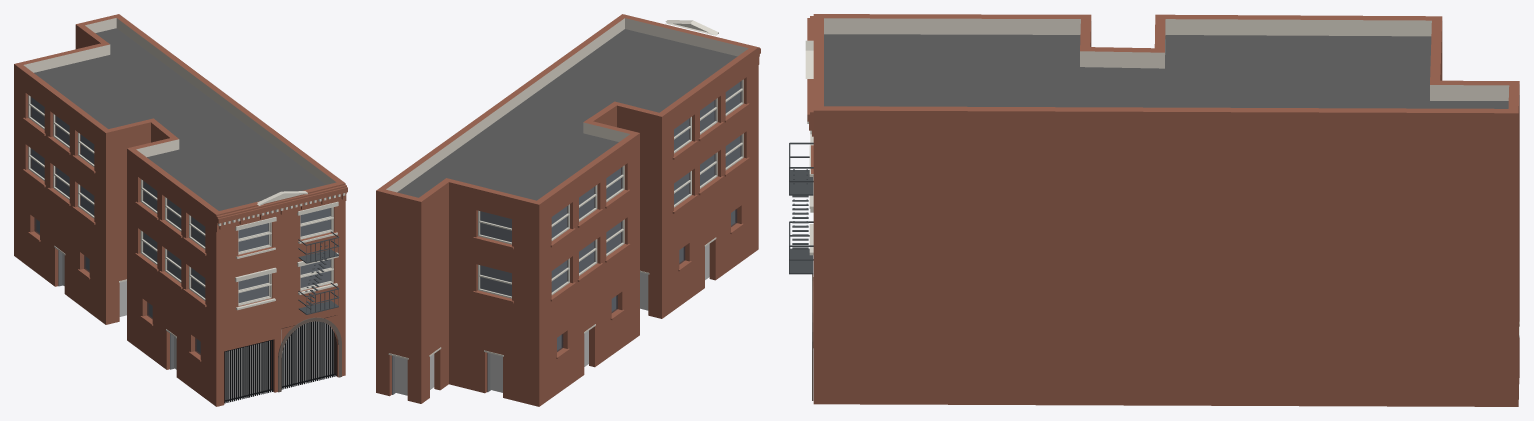
File: exterior.glb
3 views of the same model, side by side, from view 1: azimuth 30°, elevation 25°; view 2: azimuth 150°, elevation 25°; view 3: azimuth 270°, elevation 25° (orthographic). The views are drawn at different scales.
Parts seen in each view (by area): view 1: shell, roof, shadow-proxy, storefront, glazing, trim, frames, hand-ornament, fire-escape, hyC-arches-9, facade-r10; view 2: shell, roof, shadow-proxy, glazing, frames, trim, storefront, hand-ornament; view 3: shell, roof, fire-escape, hand-ornament.
Boxes of the visible parts, x1,y1,x2,y2 form: shell: (14,14,345,406); roof: (34,28,325,210); shadow-proxy: (31,97,333,399); storefront: (54,246,336,403); glazing: (30,97,330,354); trim: (23,117,347,361); frames: (28,95,332,304); hand-ornament: (235,191,338,310); fire-escape: (298,231,339,314); hyC-arches-9: (278,315,341,392); facade-r10: (238,207,333,306); shell: (376,14,758,406); roof: (397,29,737,200); shadow-proxy: (395,82,740,395); glazing: (480,81,741,351); frames: (478,79,743,298); trim: (473,47,760,358); storefront: (388,237,716,394); hand-ornament: (665,20,718,35); shell: (813,14,1519,406); roof: (824,34,1508,108); fire-escape: (789,142,813,274); hand-ornament: (805,40,813,255).
Bounding box in the file's own units: 7.87 × 11.18 × 24.24.
